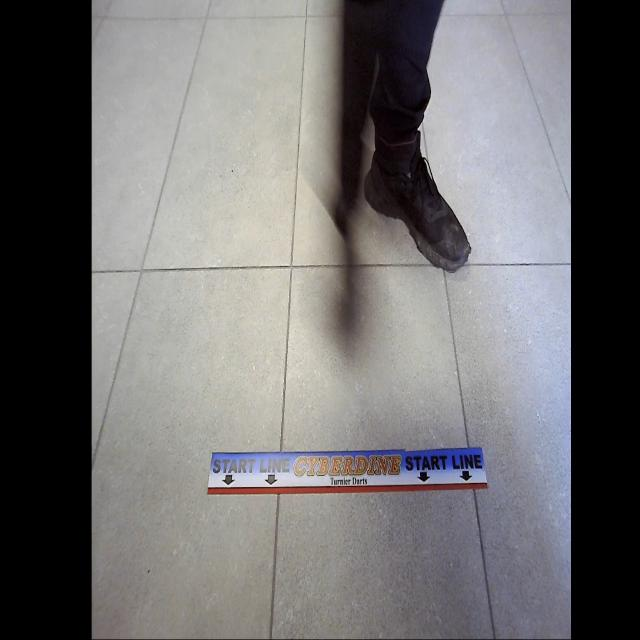foot: (363, 130, 471, 272)
